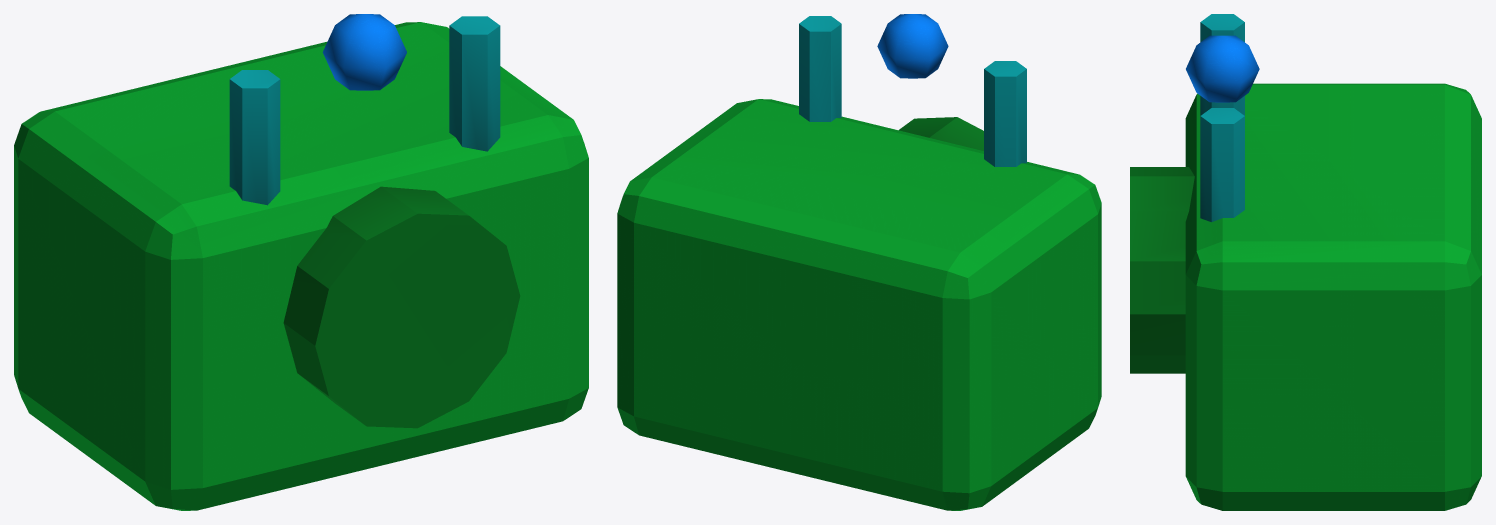
Rendered from part_buzzer.glb.
3 views of the same model, side by side, from view 1: azimuth 30°, elevation 25°; view 2: azimuth 150°, elevation 25°; view 3: azimuth 270°, elevation 25° (orthographic). The views are drawn at different scales.
Visible parts, largest first — view 1: part_buzzer; view 2: part_buzzer; view 3: part_buzzer.
Boxes of the visible parts, left/top/right/bottom form: part_buzzer: left=14, top=14, right=588, bottom=510; part_buzzer: left=617, top=14, right=1101, bottom=510; part_buzzer: left=1130, top=14, right=1481, bottom=510.
Size of the model in its own units: 0.12 by 0.118 by 0.095.
1 material, 1 textured.
